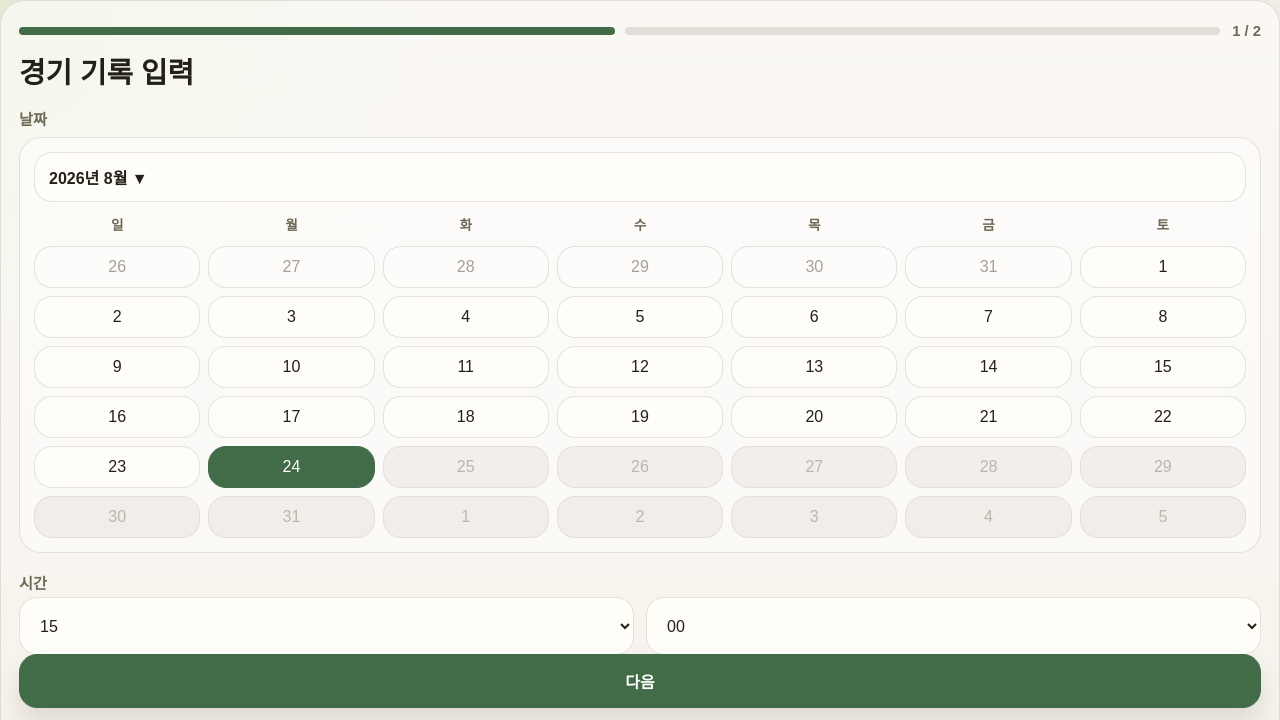
Test case: EntryFlowClient › 안타 합이 타수를 넘으면 에러 문구를 통일한다
Click the button "다음" at (640, 681), box [19,654,1261,708]
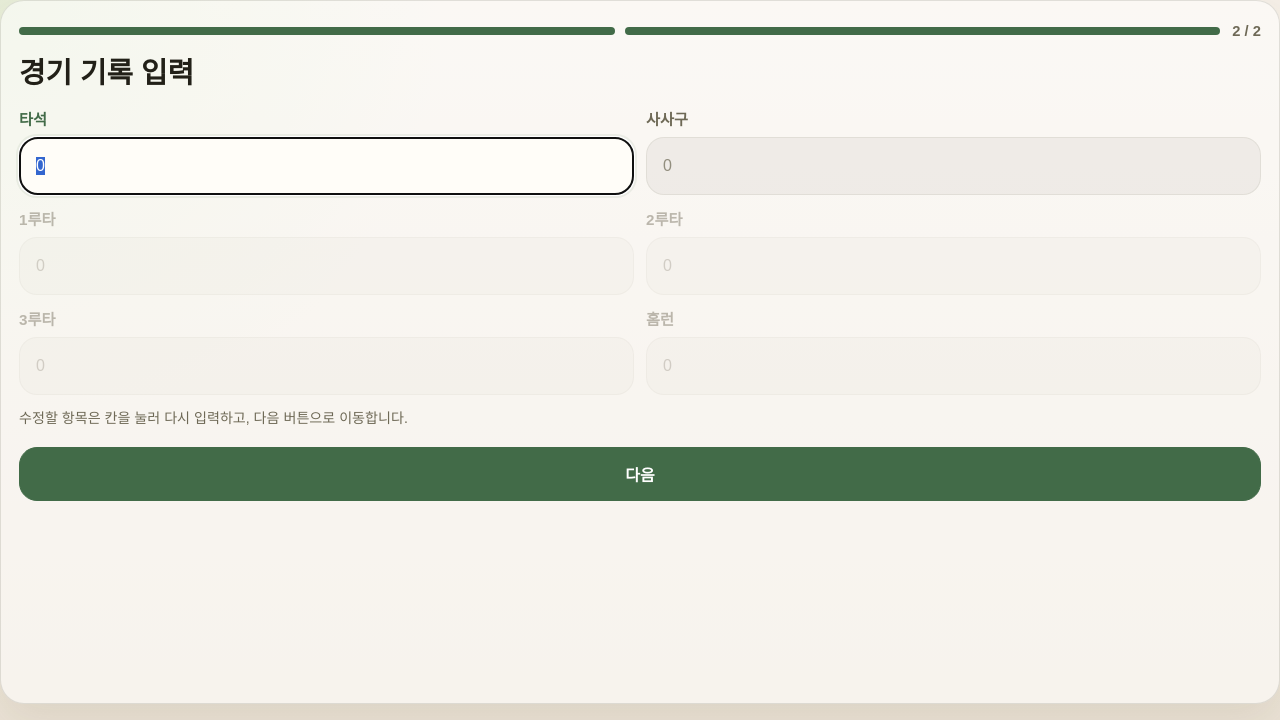
Replace the text in the field labelled "타석" with "3" at (326, 166), box [19,137,634,195]
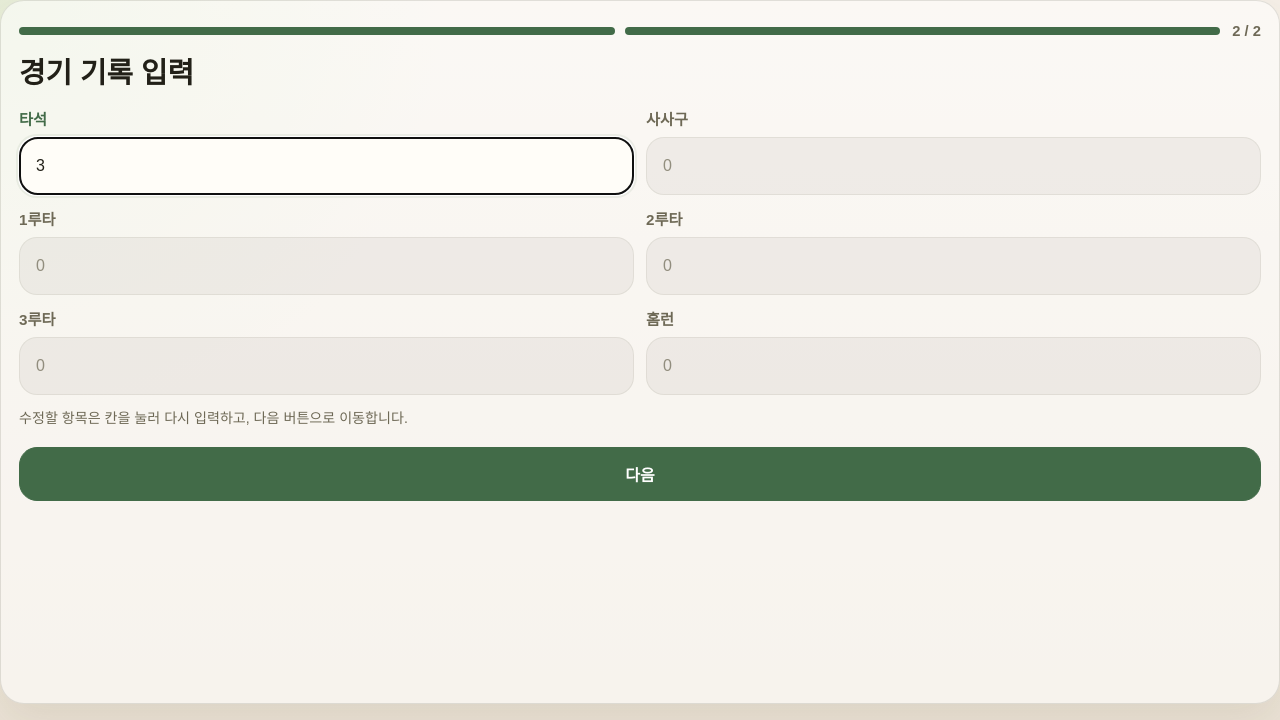
Click the button "1루타" at (326, 251), box [19,207,634,295]
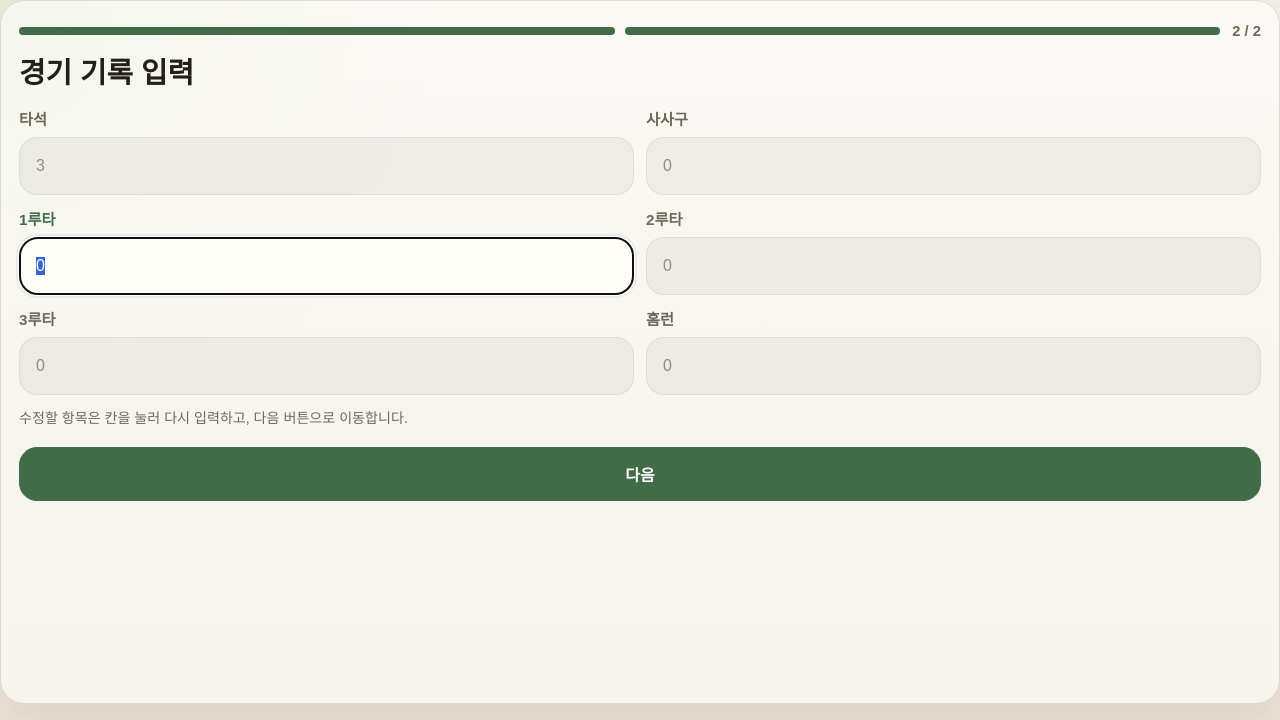
Replace the text in the field labelled "1루타" with "4" at (326, 266), box [19,237,634,295]
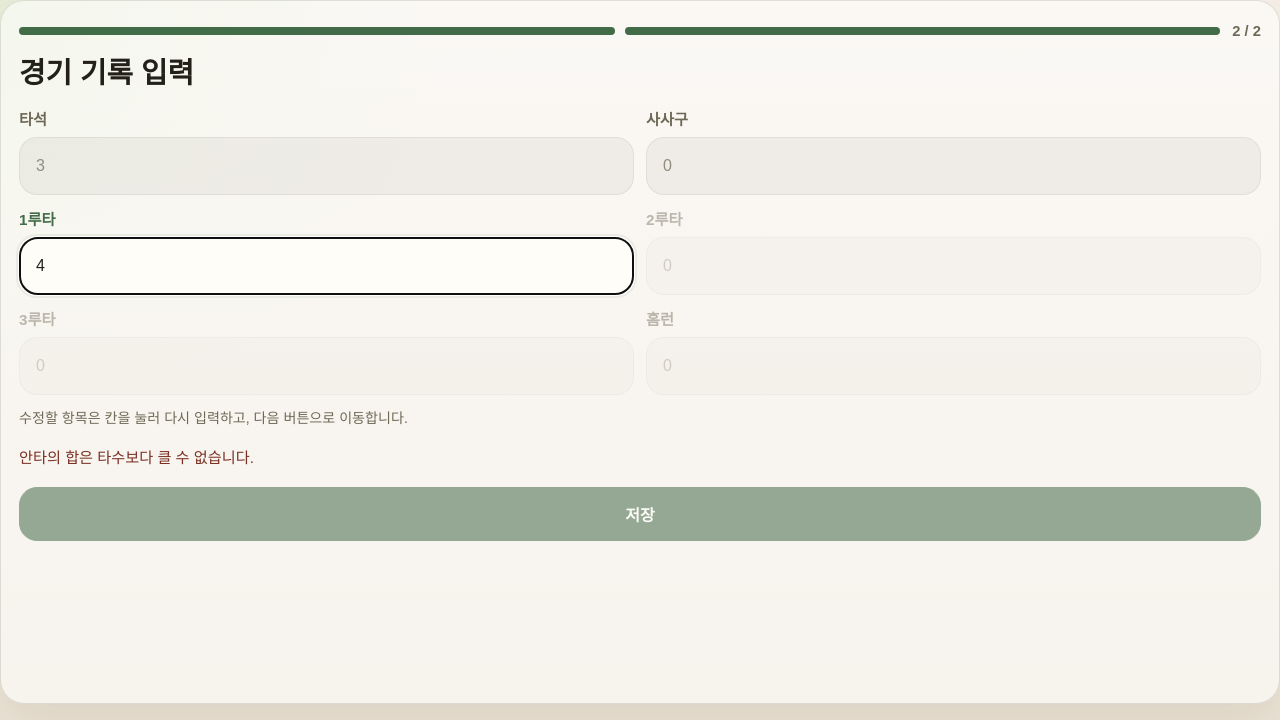
Result: the text "안타의 합은 타수보다 클 수 없습니다." is shown at [19,449,254,466]
